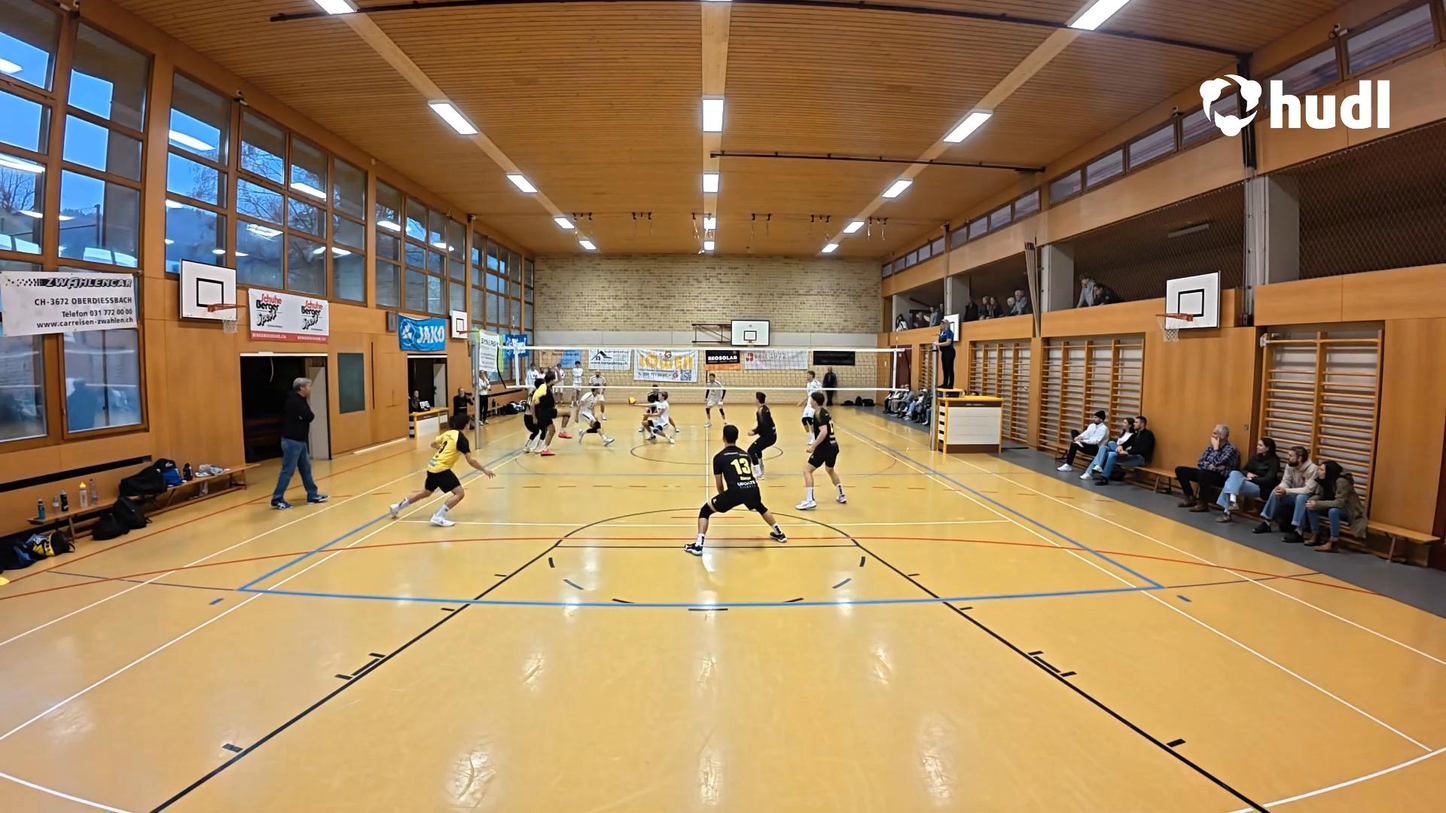Dig: (628, 388, 675, 448)
Player: (685, 421, 786, 556), (392, 416, 499, 525), (797, 390, 849, 510), (537, 370, 572, 460), (506, 372, 540, 458), (748, 391, 779, 484), (574, 385, 617, 448), (797, 368, 826, 447), (702, 371, 728, 431), (588, 367, 610, 418), (640, 382, 660, 402)
ball: (626, 392, 638, 408)
